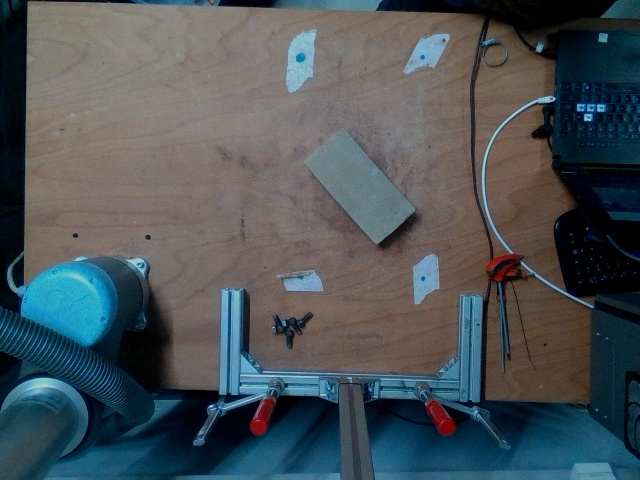brick: (305, 128, 412, 241)
